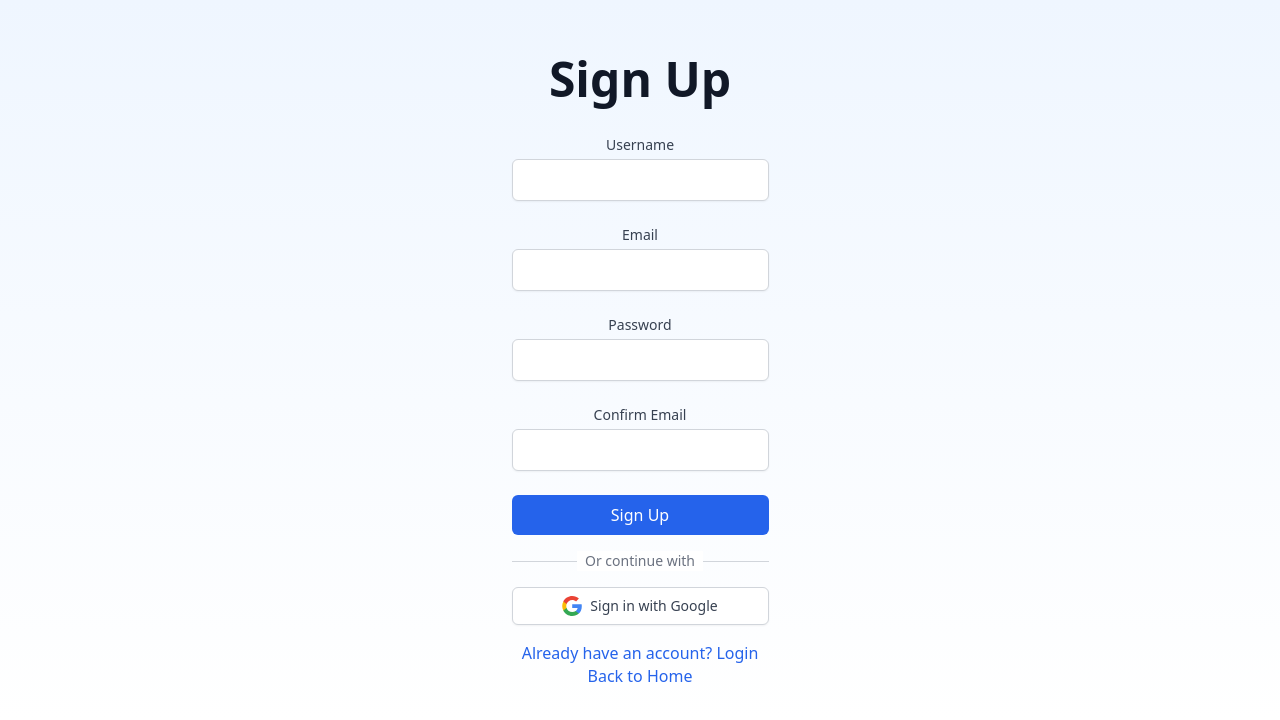
Test: Register Page › shows error when emails do not match
Type "testuser" into the field named "username" at (641, 180), box [512,159,769,201]
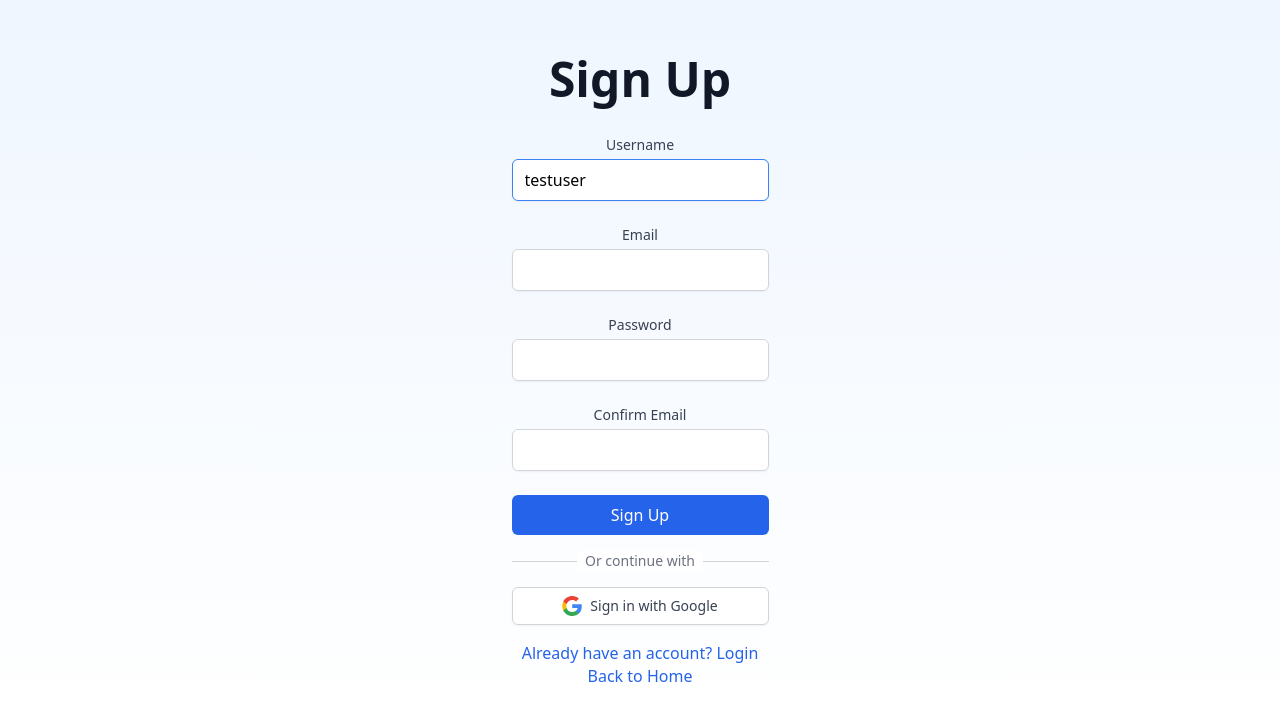
Type "test@example.com" into the field named "email" at (641, 270), box [512,249,769,291]
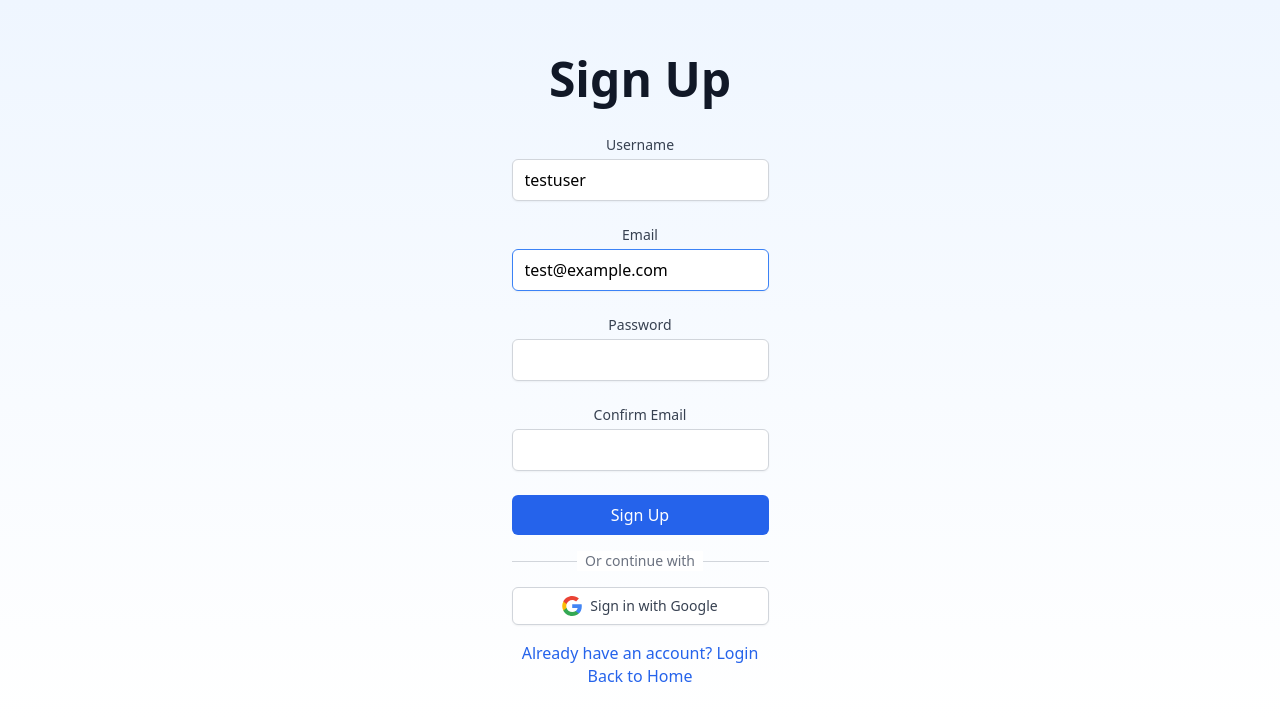
Type "different@example.com" into the field named "confirmEmail" at (641, 450), box [512,429,769,471]
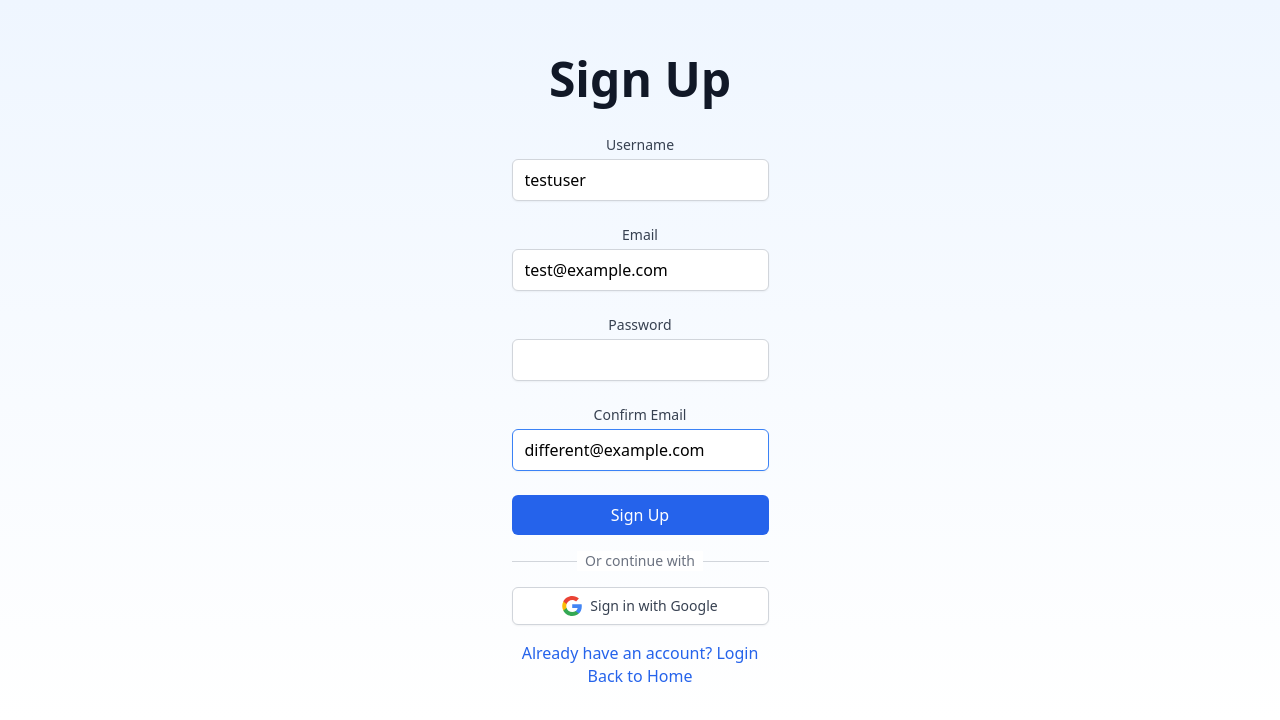
Type "password123" into the password field named "password" at (641, 360), box [512,339,769,381]
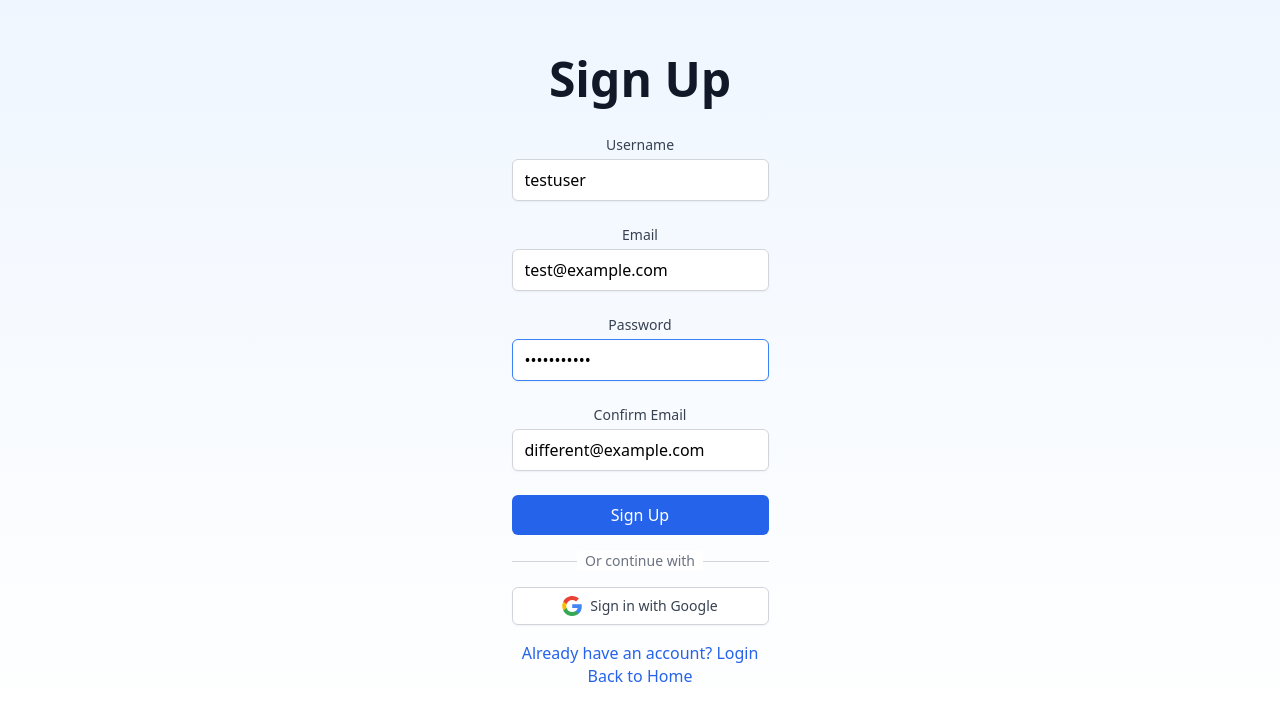
Click the submit button at (641, 515), box [512,495,769,535]
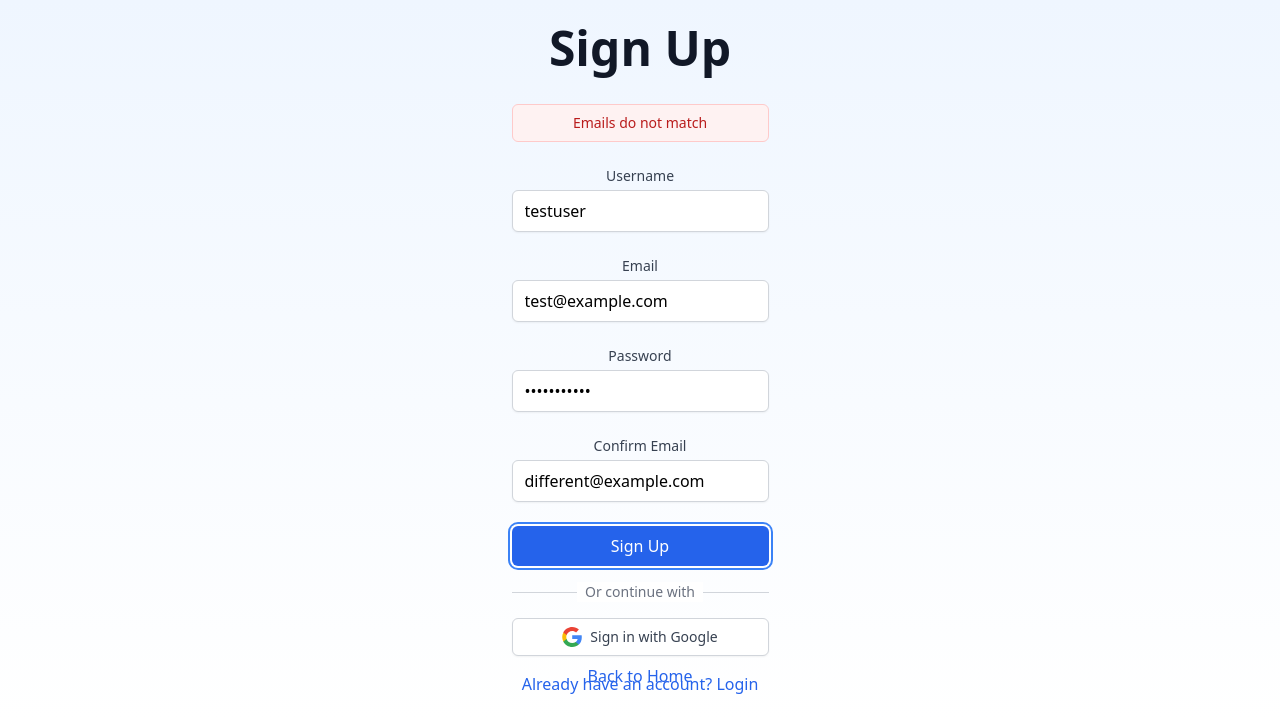
Expected: the message "Emails do not match" is shown, [512,104,768,142]
